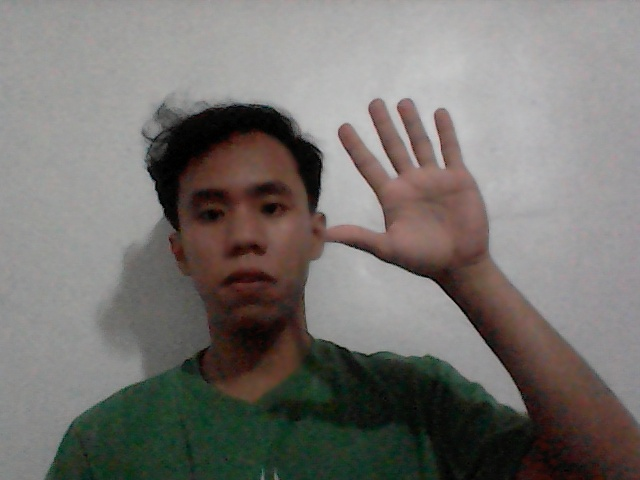Hello: (301, 83, 525, 304)
